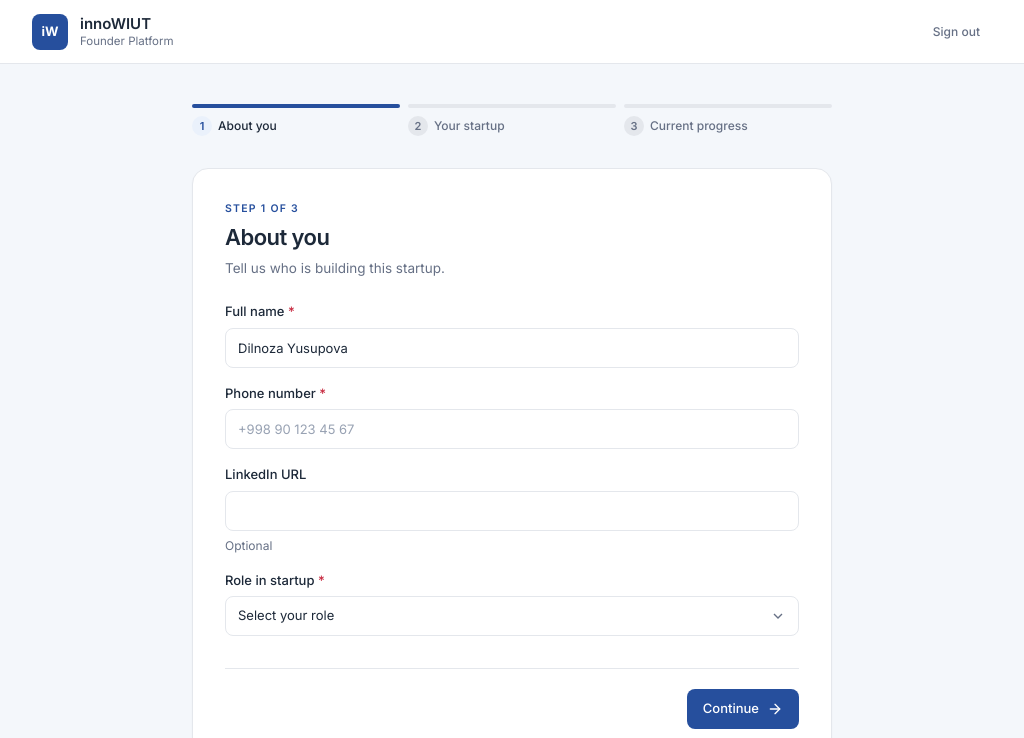
it: OnboardingPage › validates each step before moving on
Expected: the heading "About you" is shown, [225,224,329,250]
Expected: the field labelled "Full name *" holds "Dilnoza Yusupova", [225,328,799,368]
Step 1. Click the button "Continue" → (743, 709), box [687,689,799,729]
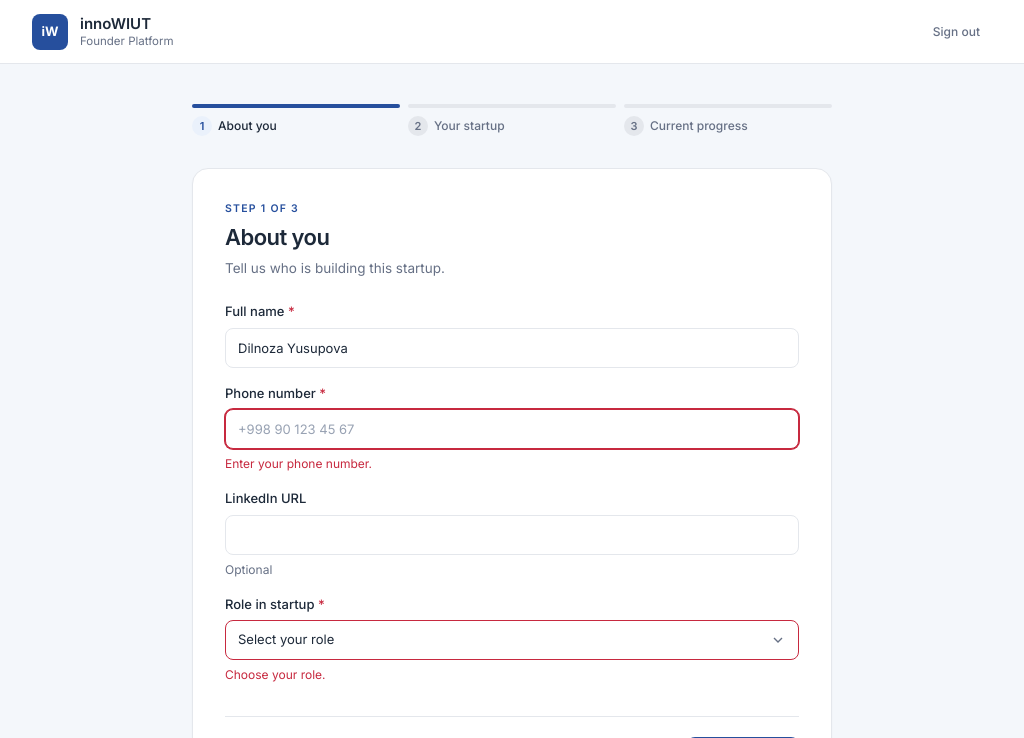
Expected: the heading "About you" is shown, [225,224,329,250]
Result: the text "Enter your phone number." is shown at [225,456,372,471]
Result: the text "Choose your role." is shown at [225,667,326,682]
